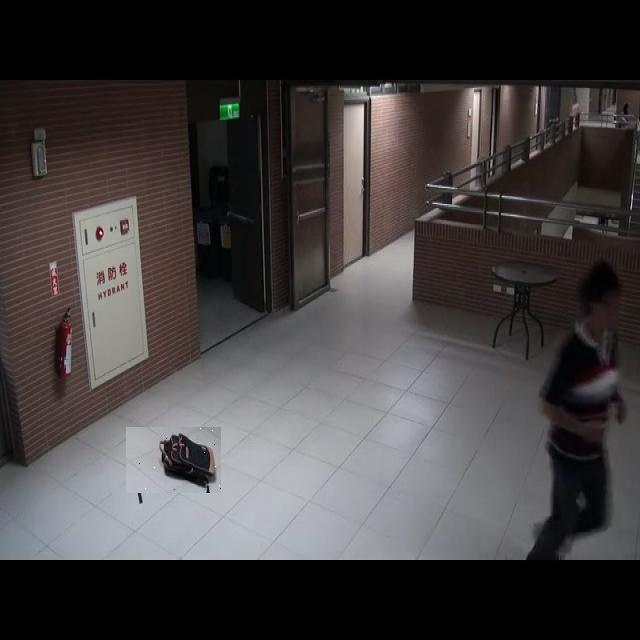abandoned-object: (126, 427, 221, 493)
